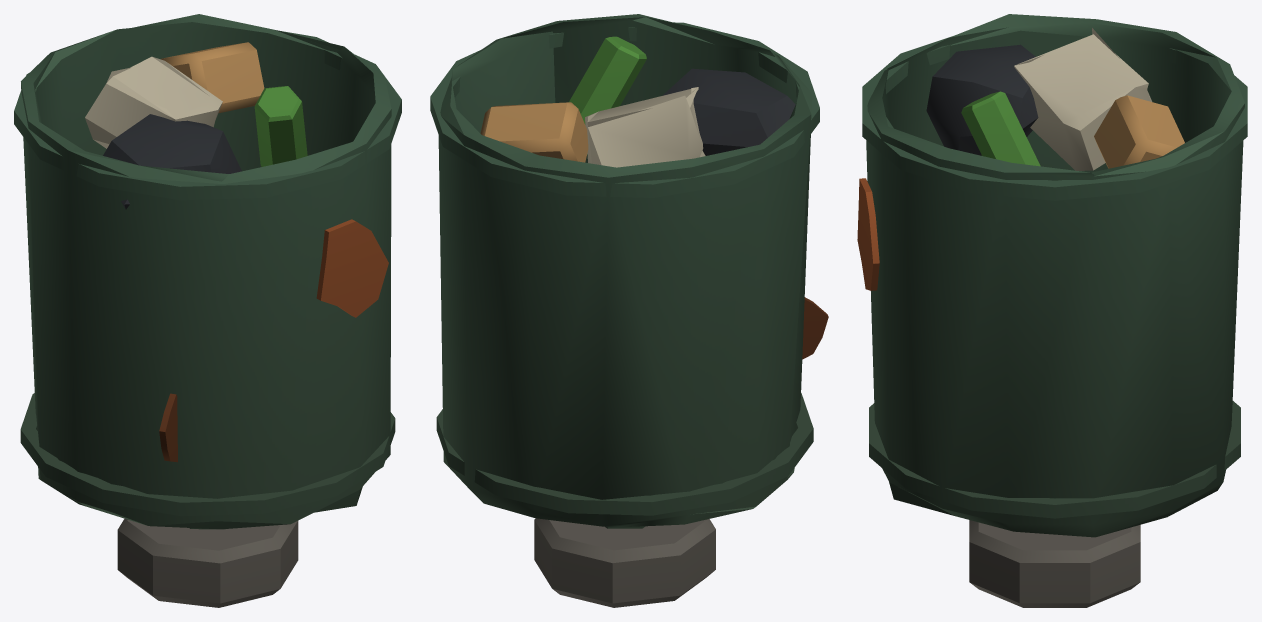
The model's file is 03_corbeille.fbx.
3 views of the same model, side by side, from view 1: azimuth 30°, elevation 25°; view 2: azimuth 150°, elevation 25°; view 3: azimuth 270°, elevation 25° (orthographic).
Parts seen in each view (by area): view 1: Corbeille; view 2: Corbeille; view 3: Corbeille.
Boxes of the visible parts, <box> form: Corbeille: <box>14,14,401,607</box>; Corbeille: <box>430,14,828,607</box>; Corbeille: <box>857,14,1247,607</box>.
Bounding box in the file's own units: 0.504 × 0.728 × 0.504.
1 material, 1 textured.
